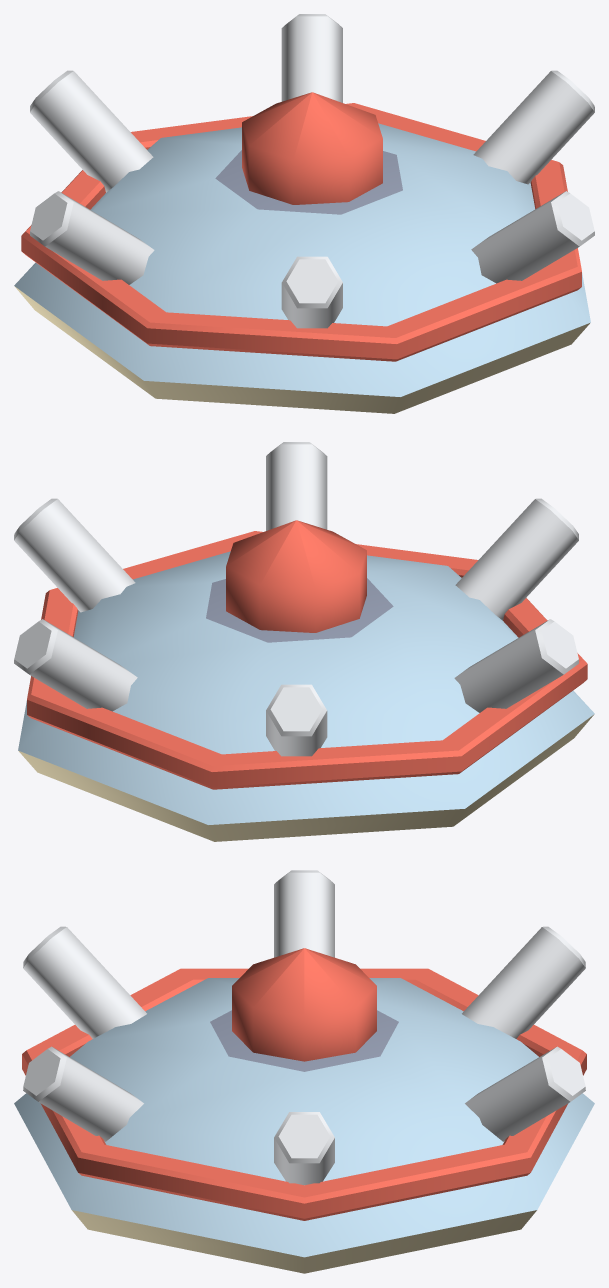
Rendered from R4D_ExplosiveTrap_LOD1.glb.
3 views of the same model, one above another, from view 1: azimuth 30°, elevation 25°; view 2: azimuth 150°, elevation 25°; view 3: azimuth 270°, elevation 25° (orthographic).
Visible parts, largest first — view 1: R4D_ExplosiveTrap_LOD1; view 2: R4D_ExplosiveTrap_LOD1; view 3: R4D_ExplosiveTrap_LOD1.
Boxes of the visible parts, x1,y1,x2,y2 form: R4D_ExplosiveTrap_LOD1: (14, 14, 594, 413); R4D_ExplosiveTrap_LOD1: (14, 442, 594, 841); R4D_ExplosiveTrap_LOD1: (14, 870, 594, 1273).
Bounding box in the file's own units: 0.4577 × 0.166 × 0.4192.
